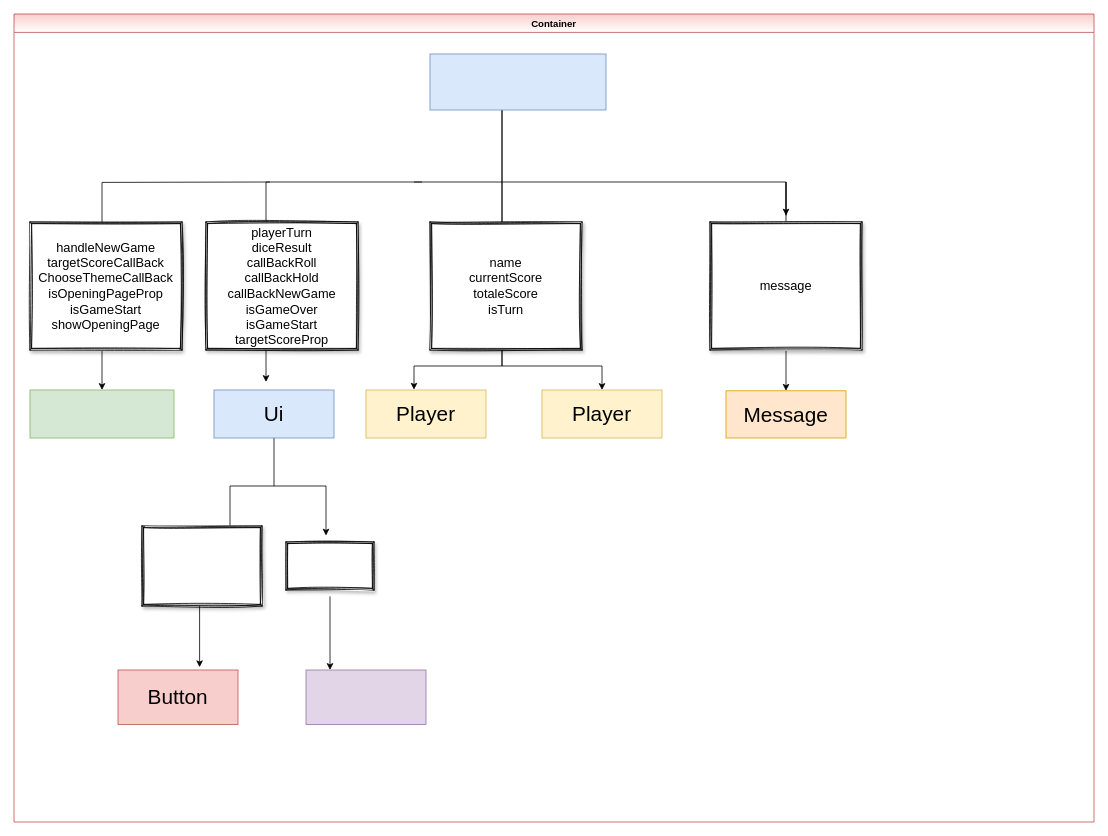
The diagram is 1108 pixels wide and 836 high, and some of its shapes have lost their labels. The centre of each missing label's shape, as x and y in pixels:
DiceApp: point (517, 81)
isGameStart: point (330, 567)
MusicPlayer: point (365, 696)
name callback classNameProp disabledProp: point (202, 567)
OpeningPage: point (101, 413)
